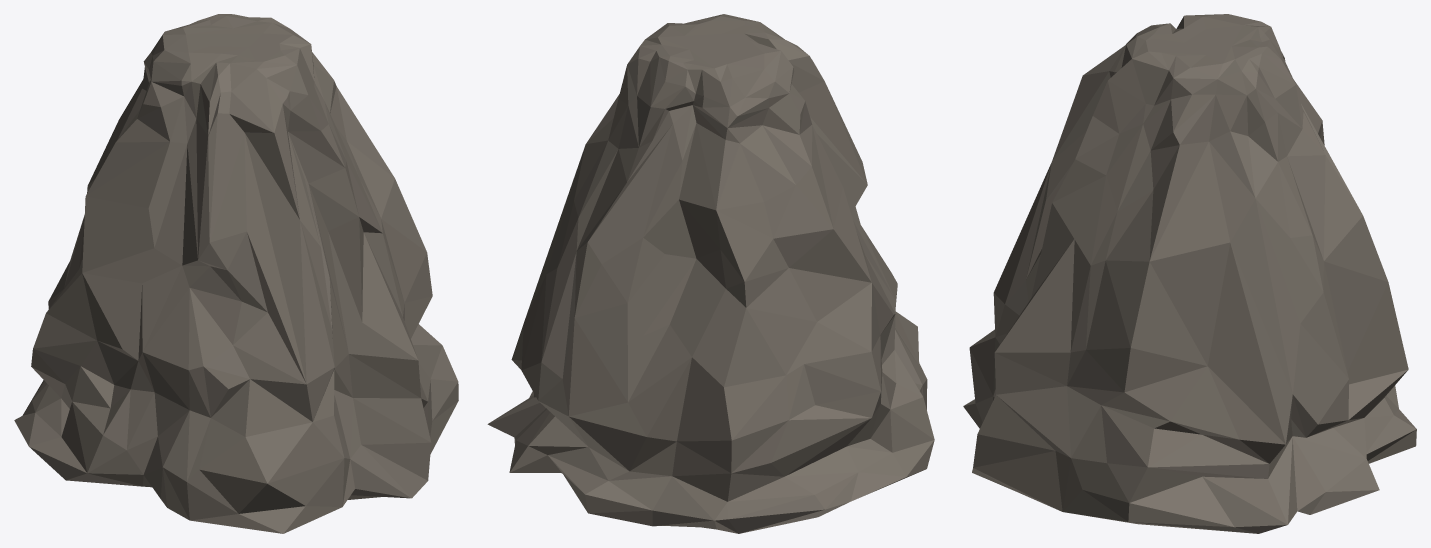
Rendered from SM_Env_Rock_Large_04.glb.
3 views of the same model, side by side, from view 1: azimuth 30°, elevation 25°; view 2: azimuth 150°, elevation 25°; view 3: azimuth 270°, elevation 25° (orthographic). The views are drawn at different scales.
Visible parts, largest first — view 1: SM_Env_Rock_Large_04_part00; view 2: SM_Env_Rock_Large_04_part00; view 3: SM_Env_Rock_Large_04_part00.
Boxes of the visible parts, left/top/right/bottom form: SM_Env_Rock_Large_04_part00: left=14, top=14, right=458, bottom=533; SM_Env_Rock_Large_04_part00: left=487, top=14, right=934, bottom=533; SM_Env_Rock_Large_04_part00: left=963, top=14, right=1416, bottom=533.
Size of the model in its own units: 5.92 by 5.95 by 5.92.
1 material, 1 textured.
